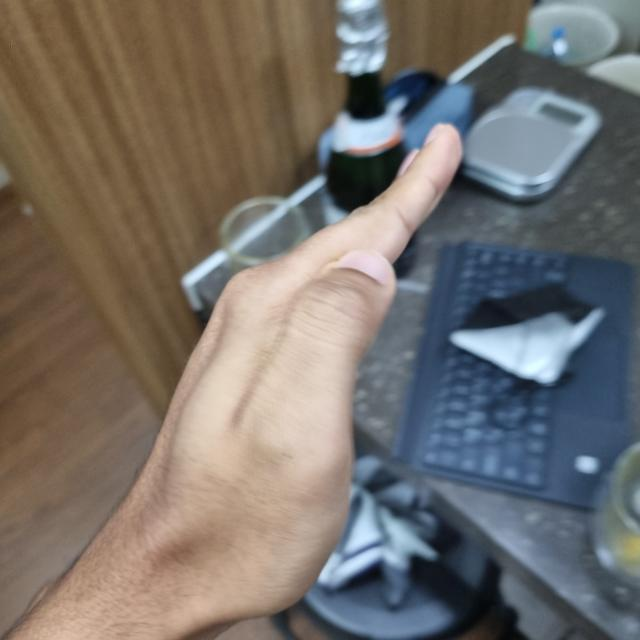Paper: (130, 132, 460, 623)
